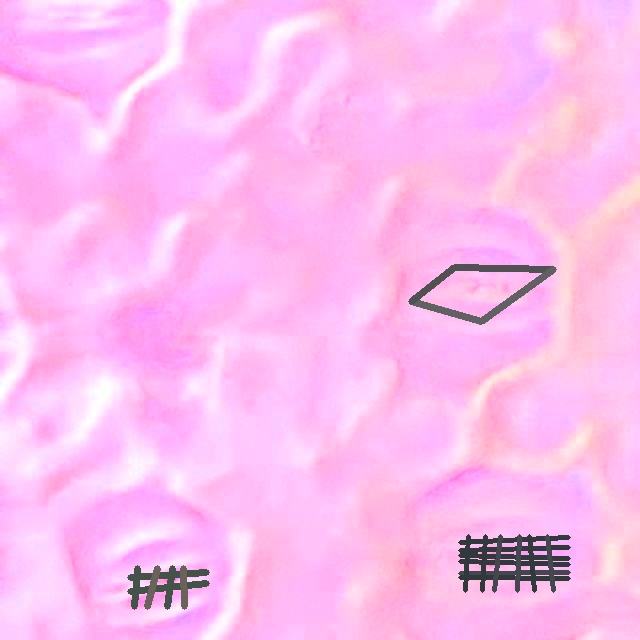open: (408, 264, 556, 324), (458, 535, 570, 592), (127, 565, 209, 609)
